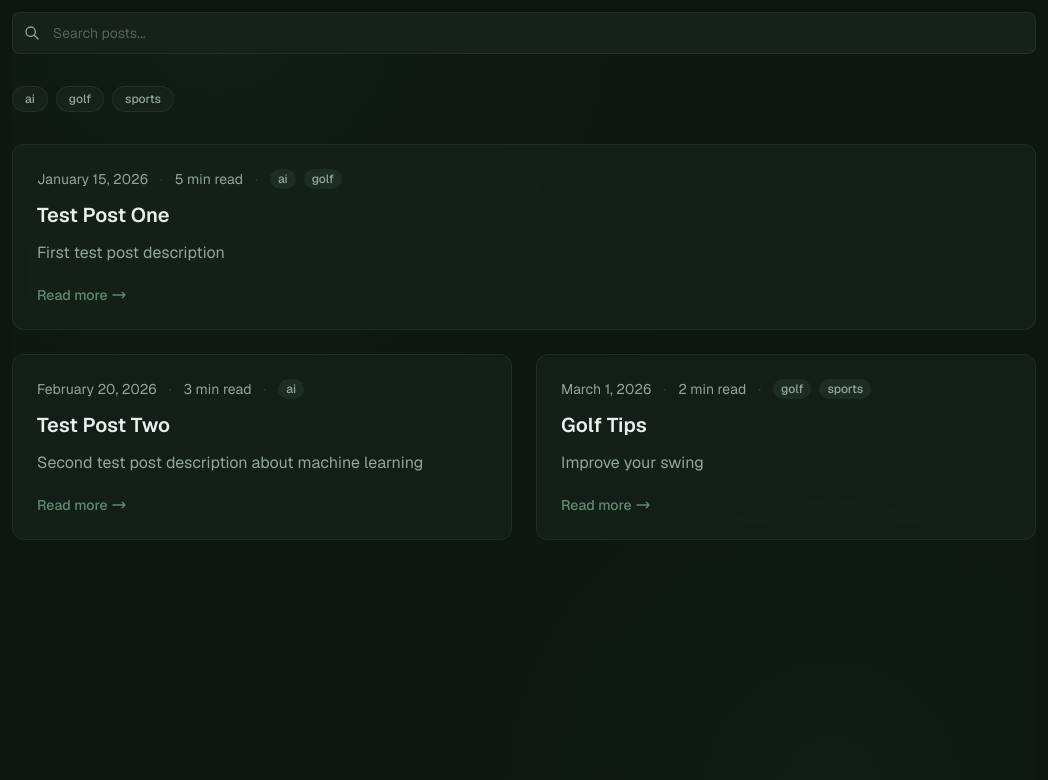
Test: blog-post-list-search › clears search when clear button is clicked
The width and height of the screenshot is (1048, 780).
In the field with placeholder "Search posts...": (524, 33) [12,12,1036,54], type "test"
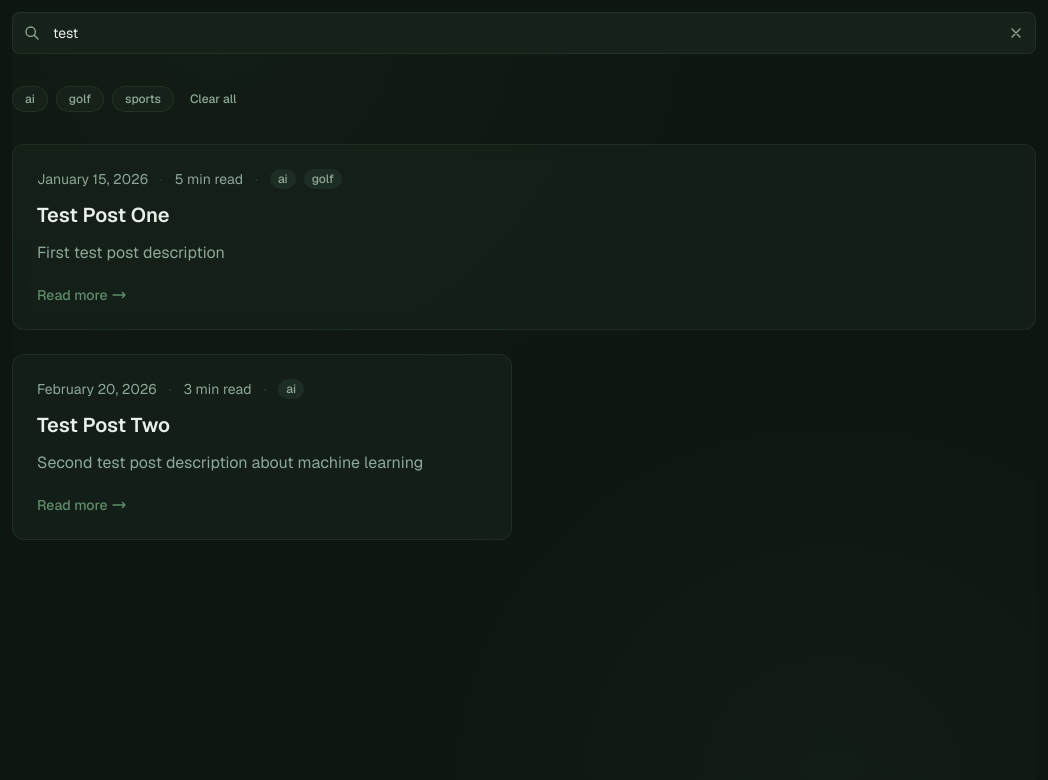
Click the button named "Clear search": (1016, 33) [1008,25,1024,41]
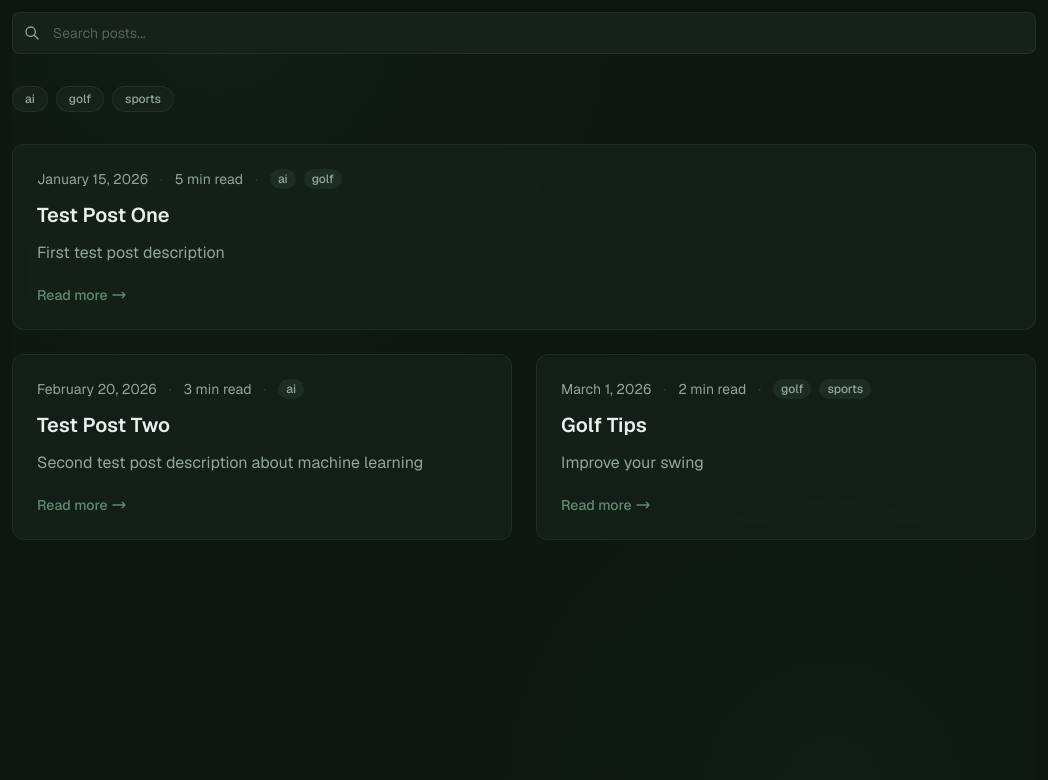
Expected: the link "Test Post One" is shown, [37,202,170,228]
Result: the field with placeholder "Search posts..." is empty at [12,12,1036,54]
Result: the link "Golf Tips" is shown at [561,412,647,438]
